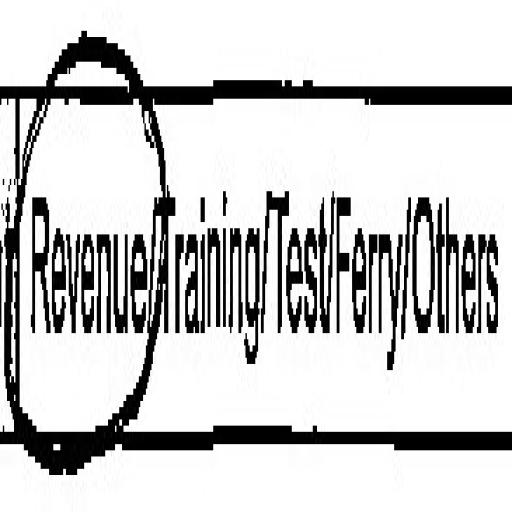check: (13, 0, 155, 512)
